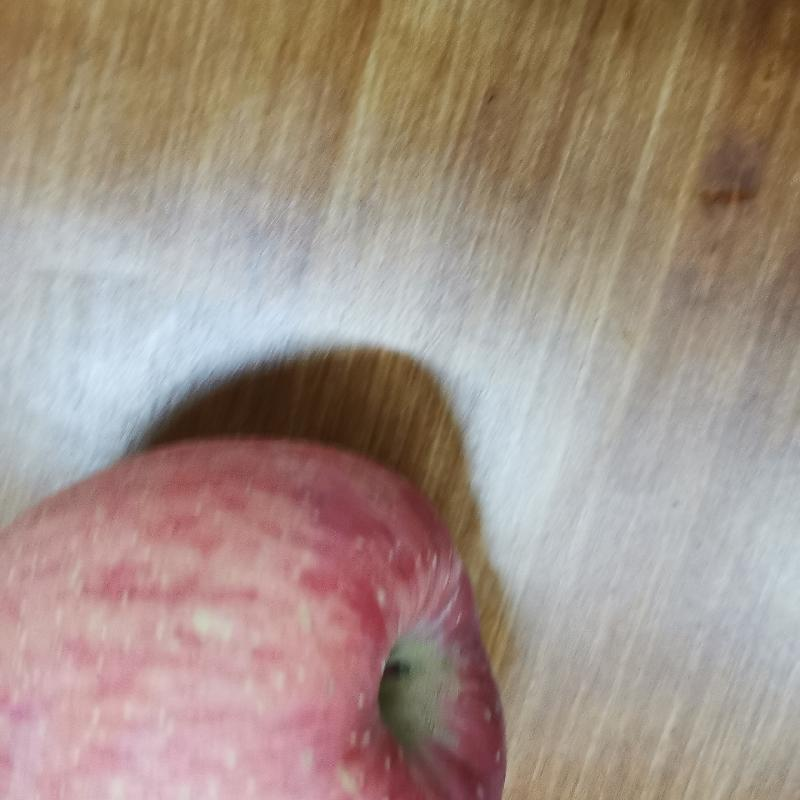apples: (3, 431, 519, 800)
